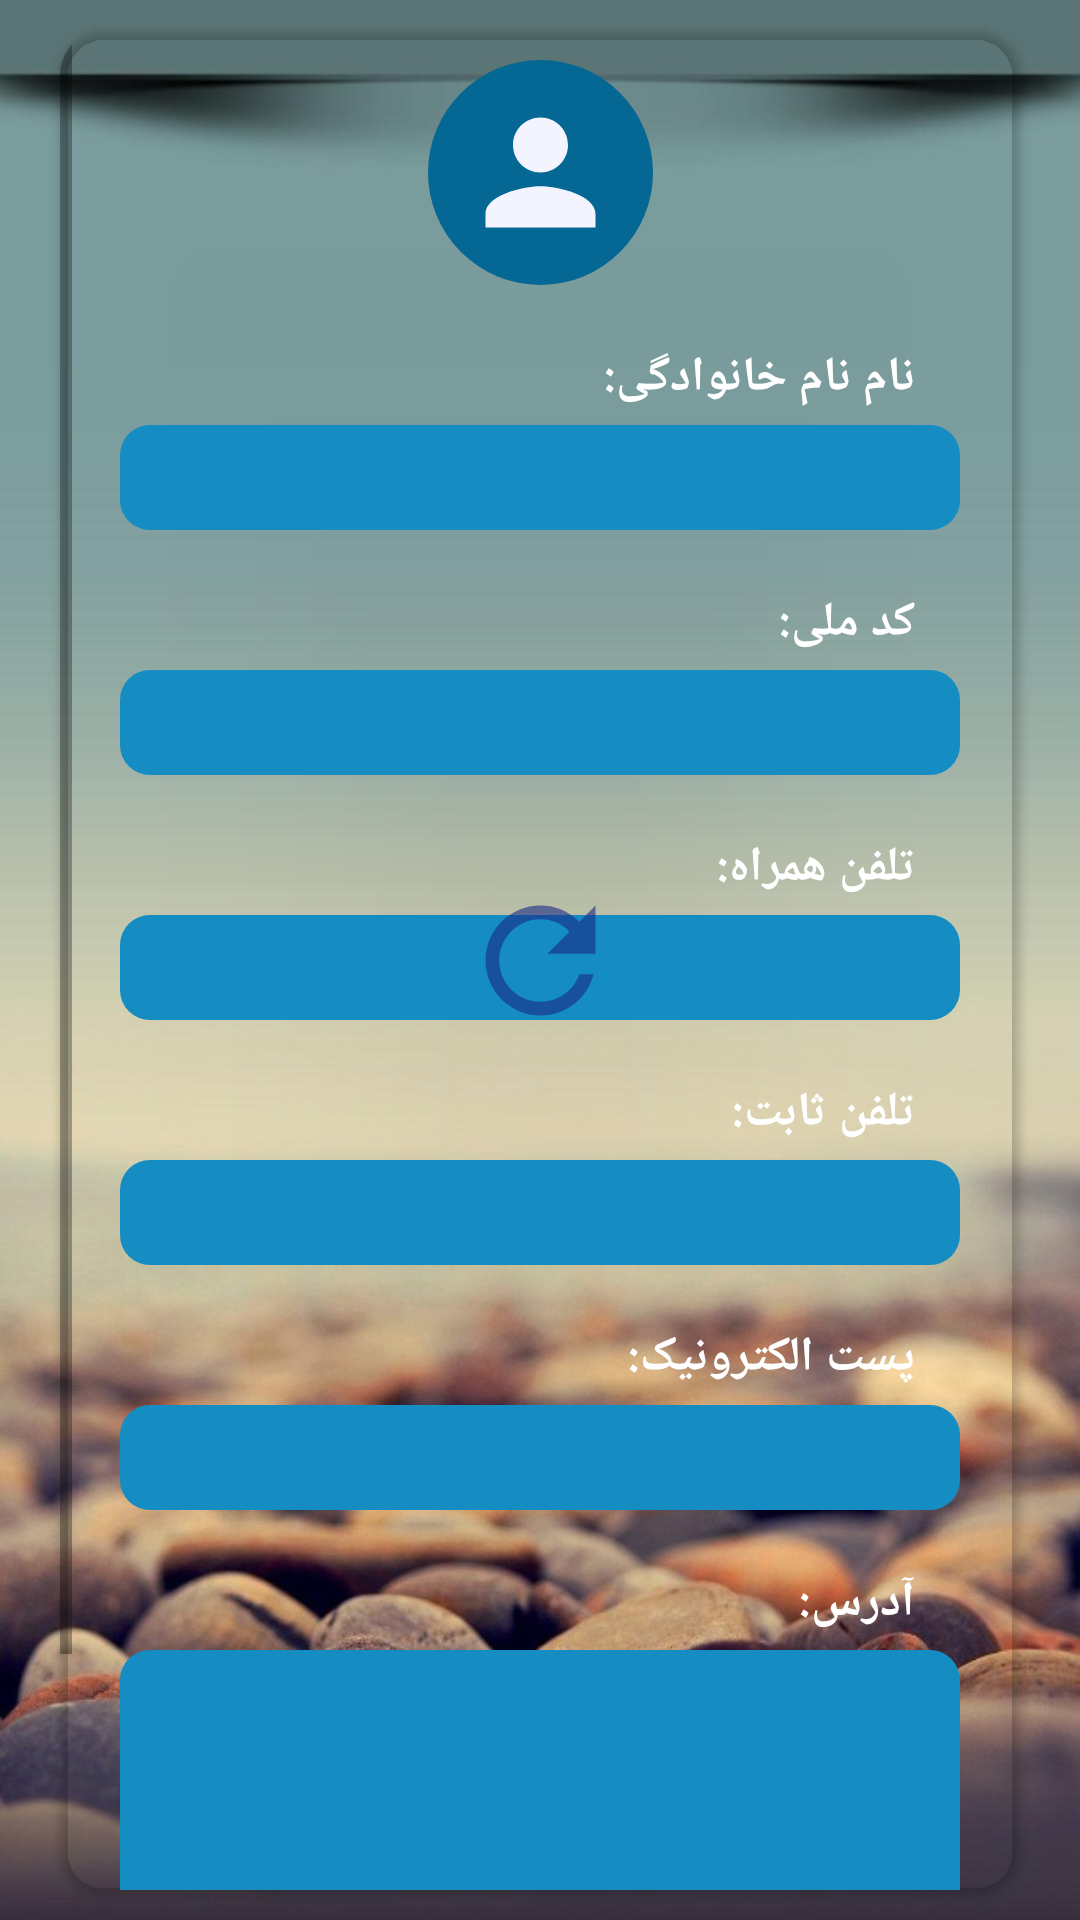

Where to tap for icons on this 1080x1920 app screen, as [x,y]:
profile: [540,172]
refresh: [540,960]
